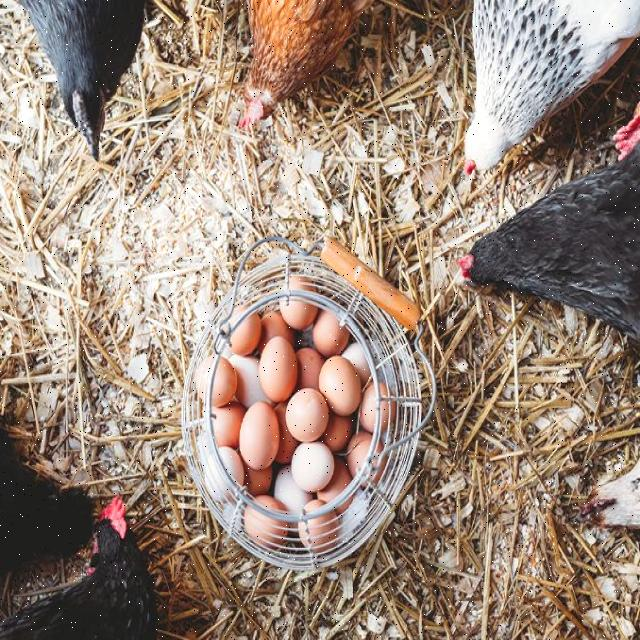Brown Egg: (237, 400, 278, 476), (257, 334, 302, 397), (287, 441, 335, 486), (323, 354, 362, 408), (290, 391, 328, 437)
White Egg: (274, 471, 308, 508)
